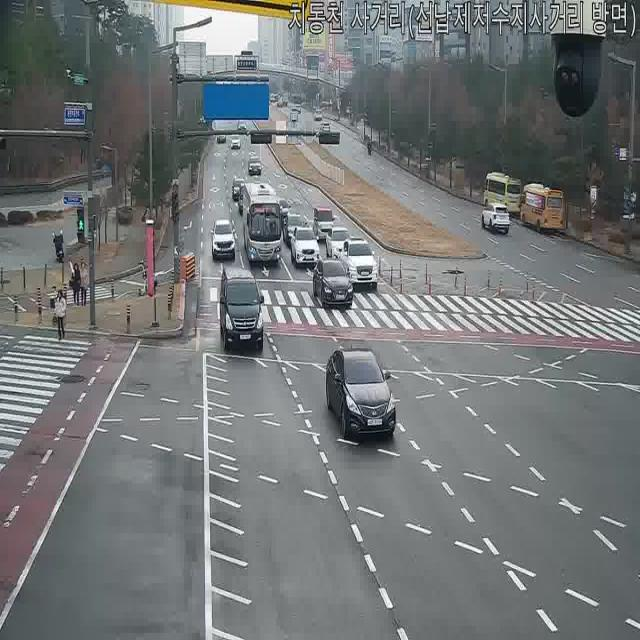Bus: (242, 180, 284, 266), (519, 182, 565, 234), (482, 171, 524, 216)
Car: (322, 346, 400, 444), (218, 267, 266, 355), (337, 237, 379, 289), (314, 259, 354, 309), (290, 226, 321, 269), (478, 200, 512, 237), (210, 218, 236, 261), (237, 188, 263, 229), (325, 225, 353, 262), (311, 206, 337, 243), (283, 213, 306, 248), (272, 196, 293, 226), (231, 177, 247, 201), (247, 155, 263, 177), (230, 134, 241, 150), (236, 120, 248, 133), (216, 130, 226, 144), (320, 121, 330, 134), (289, 109, 298, 123), (312, 108, 322, 120), (268, 93, 278, 103), (293, 103, 302, 114)
